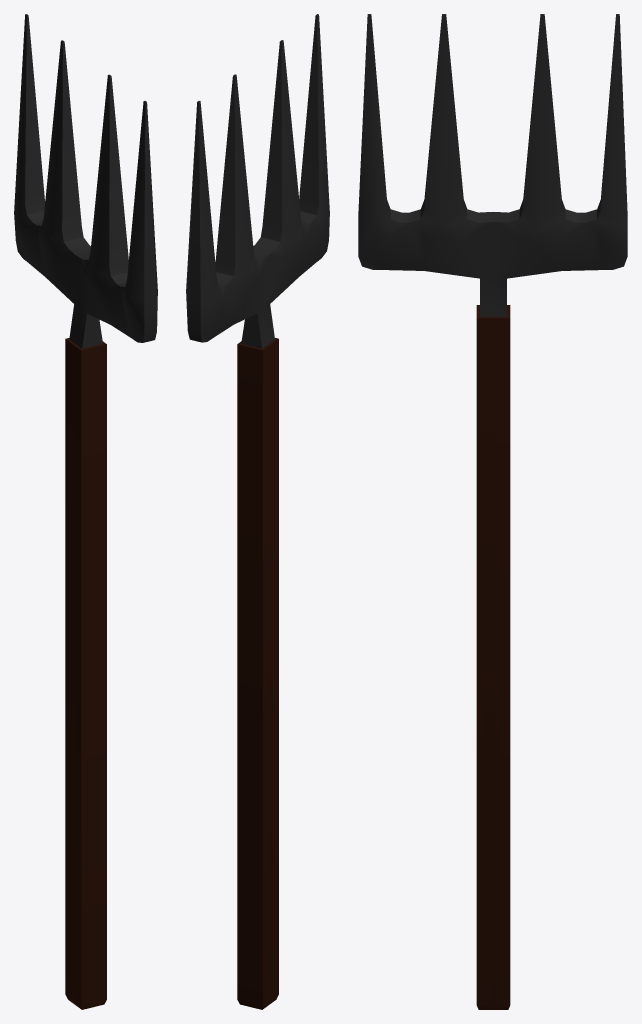
File: FOURCHE.fbx
The picture shows the model from 3 angles, left to right: view 1: azimuth 30°, elevation 25°; view 2: azimuth 150°, elevation 25°; view 3: azimuth 270°, elevation 25°; orthographic projection. The views are drawn at different scales.
Parts seen in each view (by area): view 1: Box013; view 2: Box013; view 3: Box013.
Boxes of the visible parts, left/top/right/bottom form: Box013: left=14, top=14, right=157, bottom=1009; Box013: left=186, top=14, right=329, bottom=1009; Box013: left=358, top=14, right=627, bottom=1009.
Bounding box in the file's own units: 0.2938 × 9.51 × 2.34.
